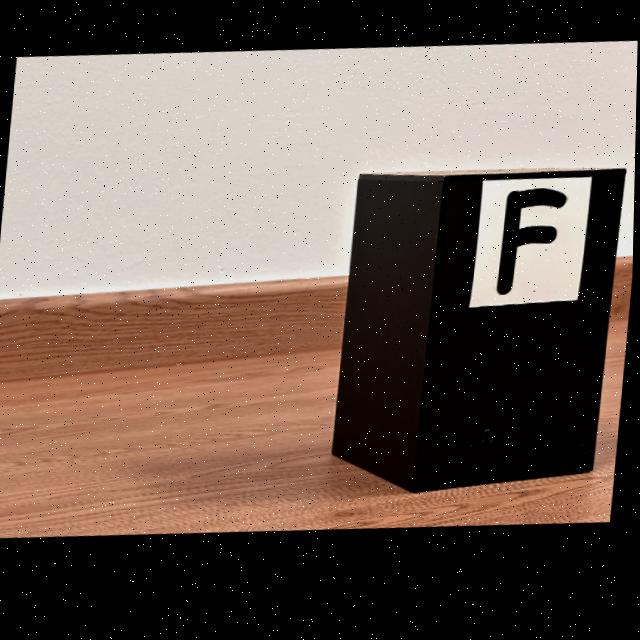F: (498, 199, 568, 305)
